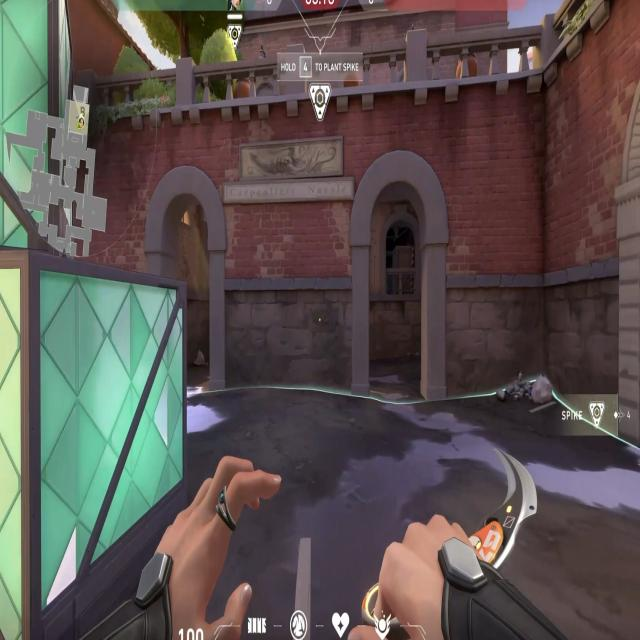B_Boathouse: (349, 147, 449, 405), (143, 162, 228, 392)
B_Site_Box: (1, 2, 184, 640)
